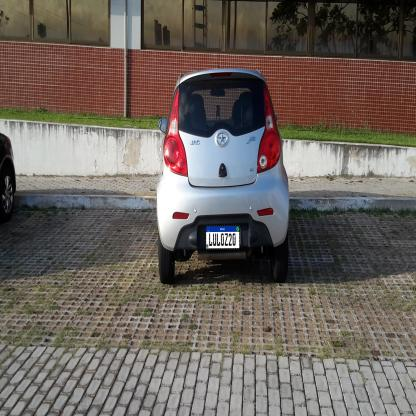PlacaM: (205, 224, 240, 249)
